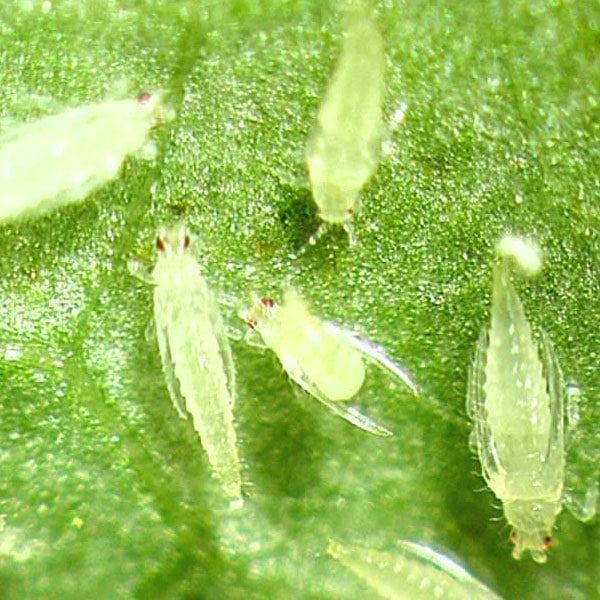Thrips: (451, 233, 579, 565), (147, 214, 245, 504)
